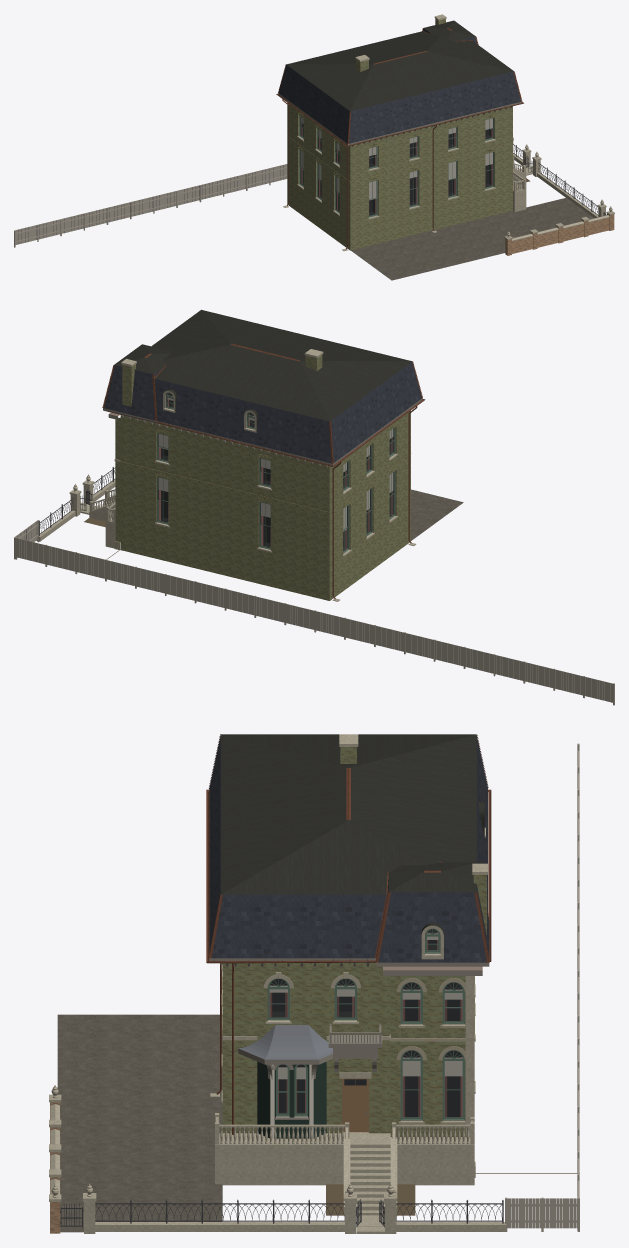
File: law_house_1620_prairie__restored_1904.glb
3 views of the same model, one above another, from view 1: azimuth 30°, elevation 25°; view 2: azimuth 150°, elevation 25°; view 3: azimuth 270°, elevation 25° (orthographic). The views are drawn at different scales.
Visible parts, largest first — view 1: law_house_1620_prairie__restored_1904; view 2: law_house_1620_prairie__restored_1904; view 3: law_house_1620_prairie__restored_1904.
Part boxes in pixels (x1,y1,x2,y2): law_house_1620_prairie__restored_1904: (14,14,614,280); law_house_1620_prairie__restored_1904: (14,309,614,705); law_house_1620_prairie__restored_1904: (49,734,579,1233).
Size of the model in its own units: 48.49 by 15.86 by 23.71.
Materials: 31 (17 with a texture image).
